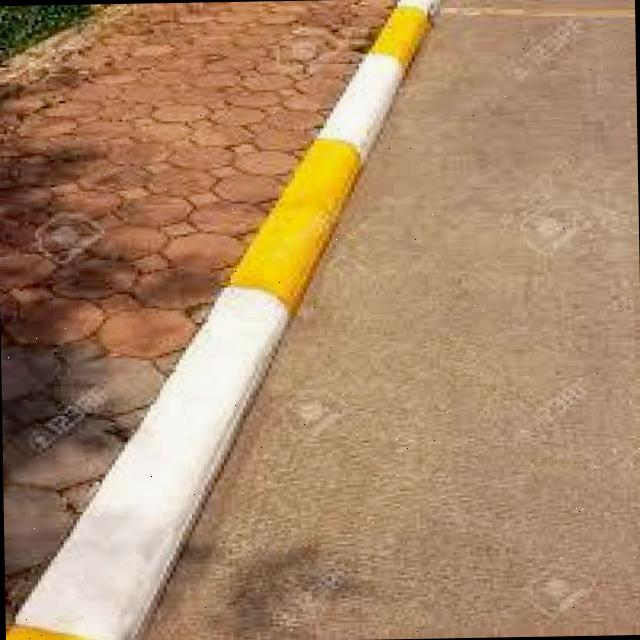curb: (3, 398, 266, 640), (164, 235, 346, 389), (333, 6, 452, 121), (284, 128, 393, 219)
